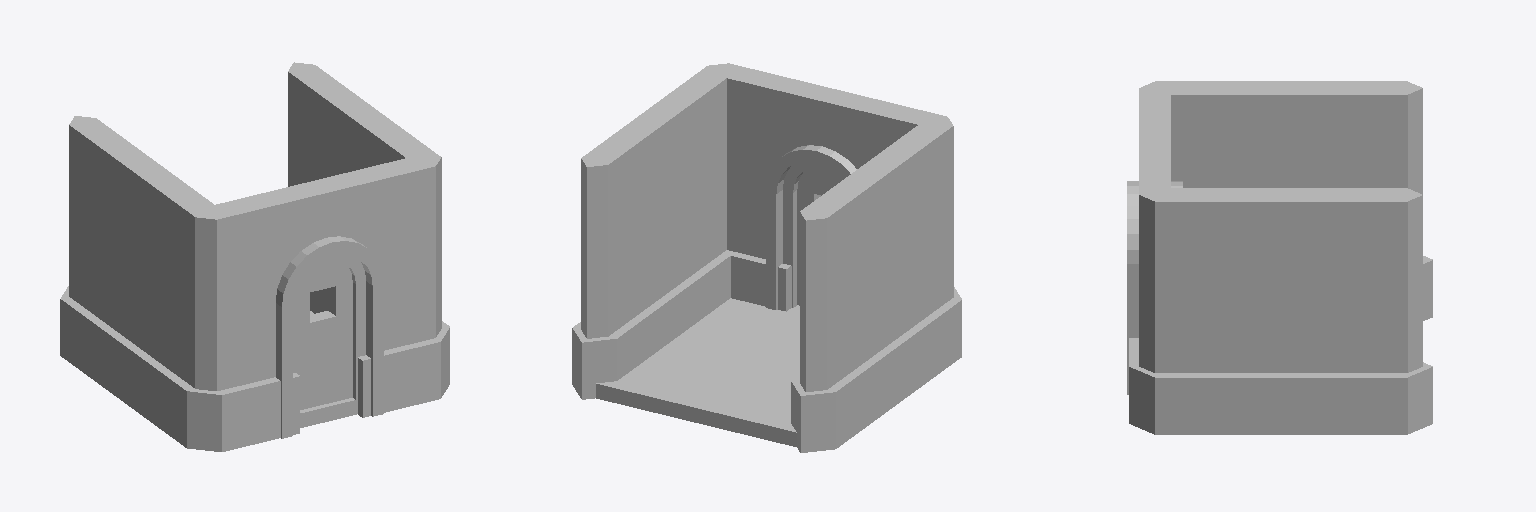
File: sm_hallway_end_03.obj
3 renders of one model, left to right at view 1: azimuth 30°, elevation 25°; view 2: azimuth 150°, elevation 25°; view 3: azimuth 270°, elevation 25°, orthographic.
Visible parts, largest first — view 1: door_01_183, wall_01_172, wall_01_176, floor_square_169; view 2: wall_01_172, wall_01_176, door_01_183, floor_square_169; view 3: wall_01_176, wall_01_172, door_01_183.
Boxes of the visible parts, <box> form: door_01_183: <box>187,155,445,451</box>; wall_01_172: <box>60,116,225,451</box>; wall_01_176: <box>288,62,449,397</box>; floor_square_169: <box>300,311,357,427</box>; wall_01_172: <box>791,117,961,452</box>; wall_01_176: <box>572,63,734,399</box>; door_01_183: <box>710,63,955,311</box>; floor_square_169: <box>596,298,799,446</box>; wall_01_176: <box>1129,188,1432,434</box>; wall_01_172: <box>1147,81,1432,320</box>; door_01_183: <box>1127,82,1182,394</box>.
Bounding box in the file's own units: 1.21 × 1 × 1.22.